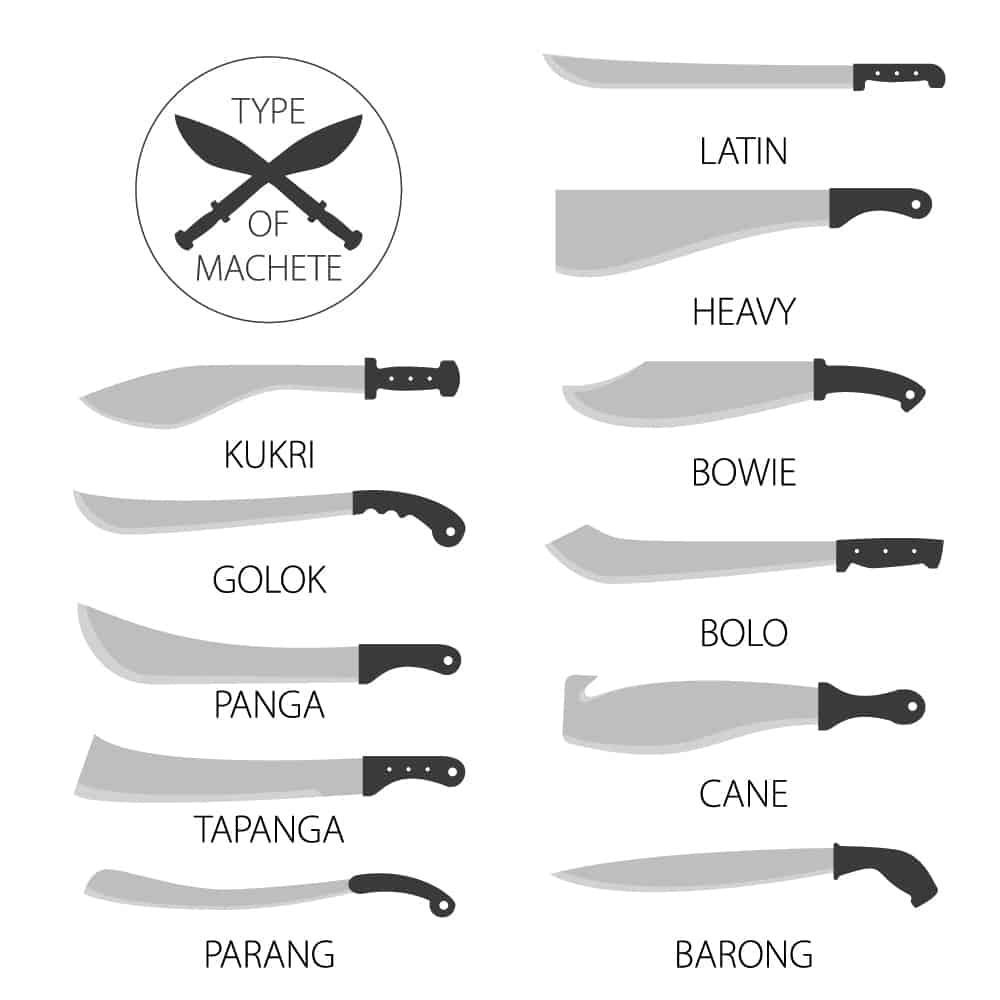facao: (59, 292, 479, 442), (534, 460, 980, 594), (24, 574, 484, 700), (519, 164, 974, 289), (527, 645, 952, 764), (39, 452, 479, 560), (536, 326, 948, 441), (59, 716, 497, 816), (57, 838, 492, 928)
